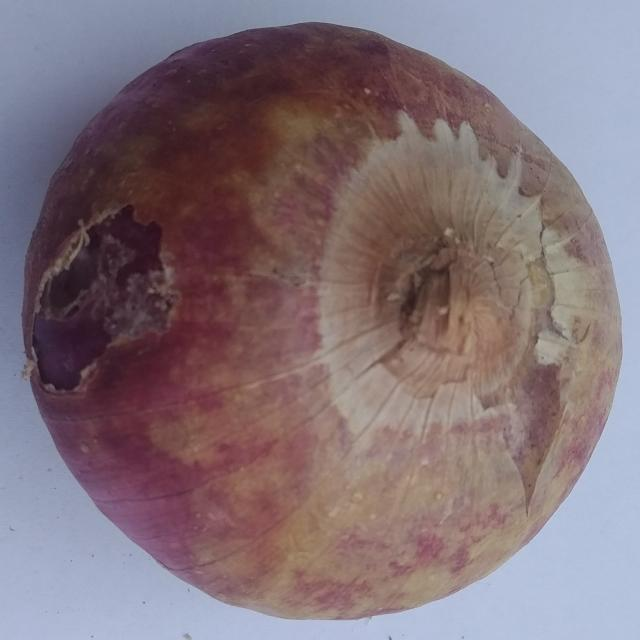onion: (18, 21, 625, 622)
